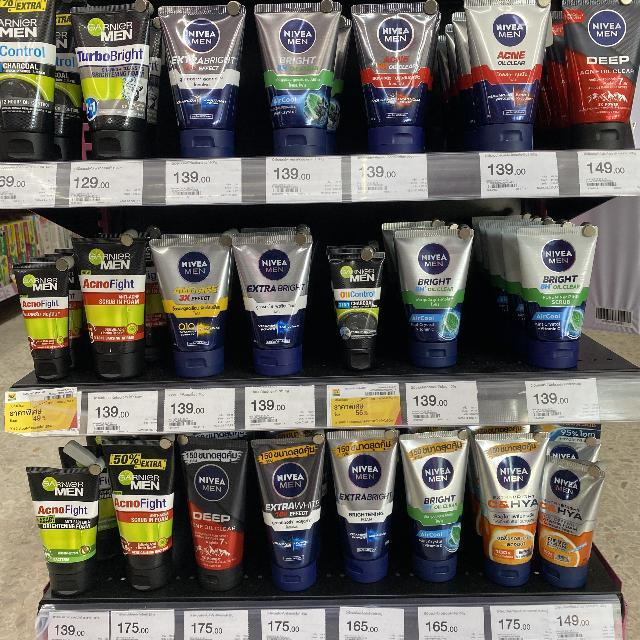Squeeze Tube: (3, 0, 640, 640)
